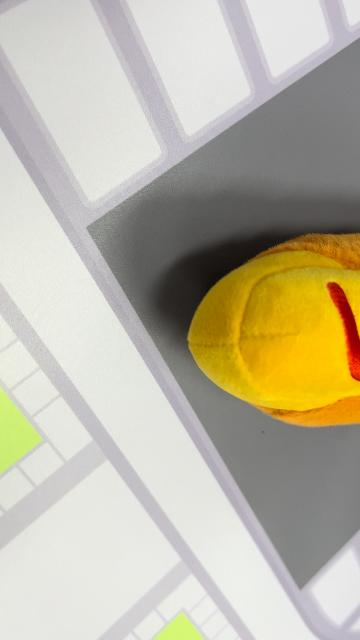hotdog: (185, 232, 358, 428)
